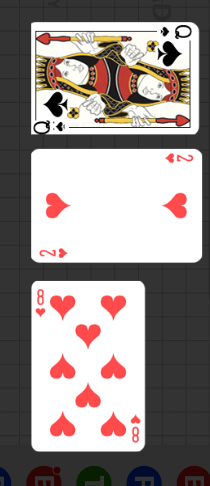2H: (163, 152, 194, 165)
8H: (34, 288, 47, 320), (129, 413, 141, 444)
